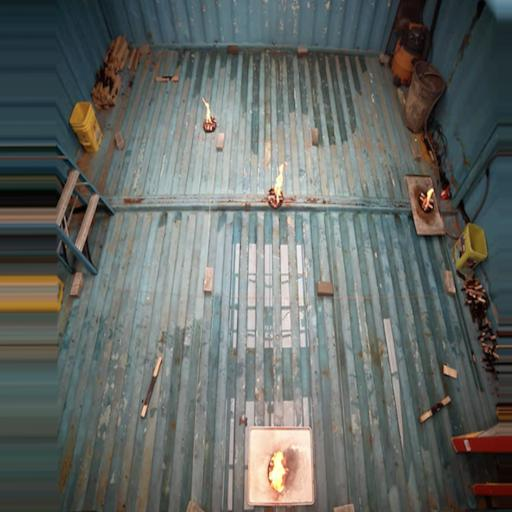Fire: (268, 451, 287, 492), (272, 164, 285, 202), (202, 98, 213, 123), (425, 187, 433, 202)
